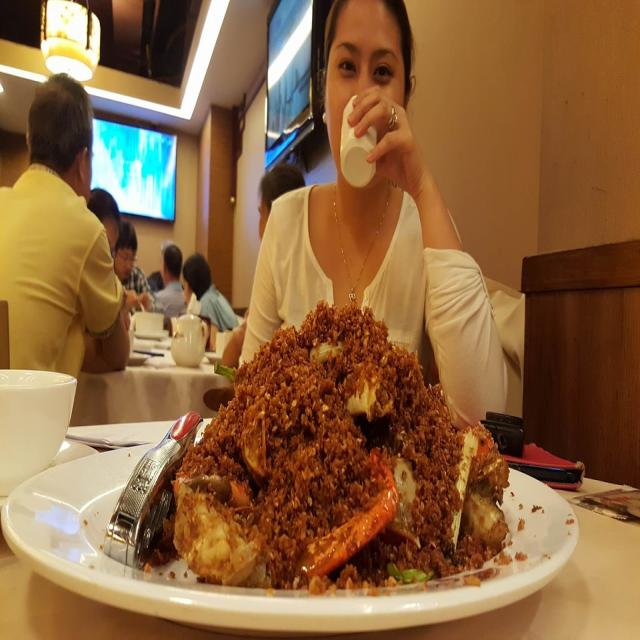body: (237, 0, 508, 428), (0, 70, 132, 380), (219, 162, 307, 371), (180, 251, 242, 350), (112, 218, 158, 314), (152, 243, 188, 318), (86, 187, 122, 256), (144, 241, 170, 289)
